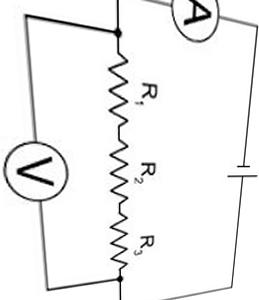resistor: (102, 46, 132, 128), (103, 211, 133, 269), (105, 140, 133, 199)
